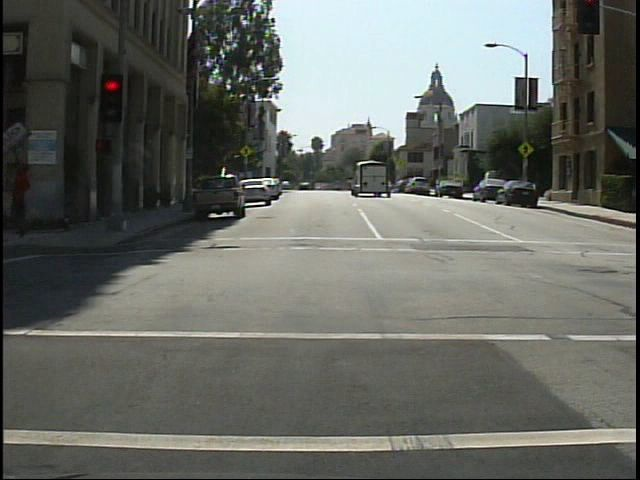person: (6, 159, 47, 240)
